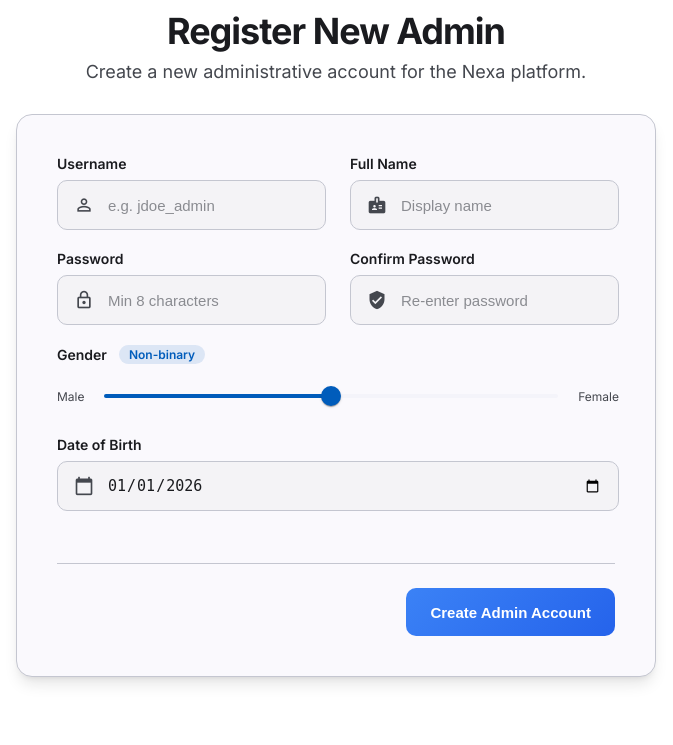
Test: Admin Registration › registering an admin with an already-taken username shows a conflict error
In the field with id "reg-username": (208, 205) [106,181,309,229], type "superadmin"
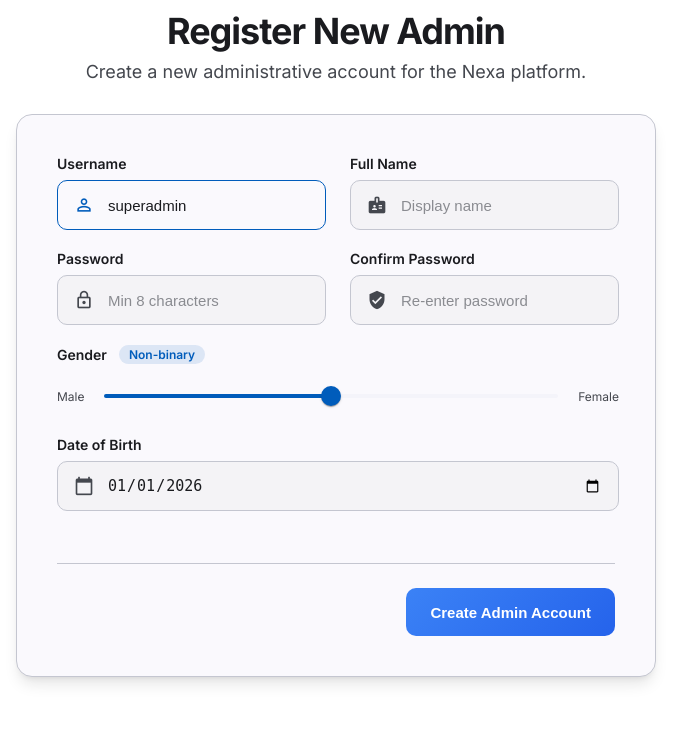
In the field with id "reg-name": (501, 205) [399,181,602,229], type "Duplicate Admin"
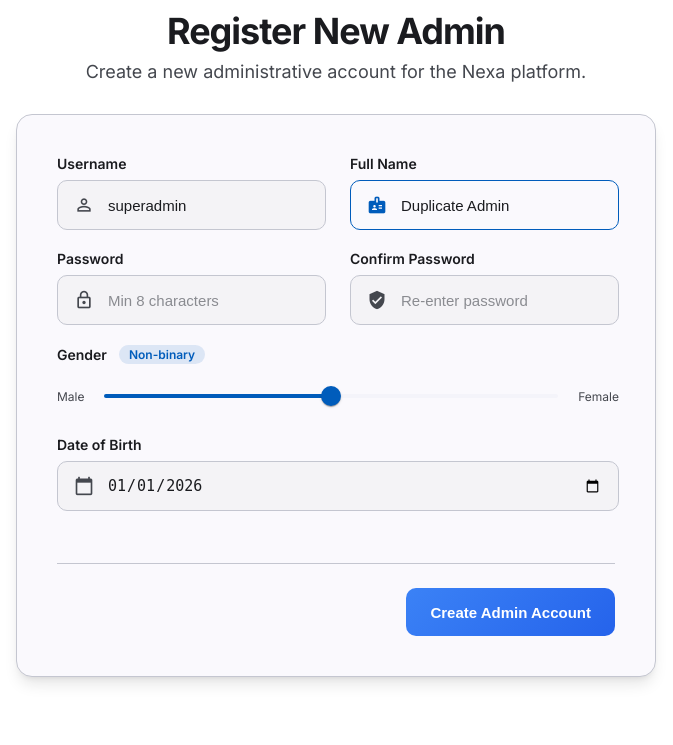
In the password field with id "reg-password": (208, 300) [106,276,309,324], type "password123"
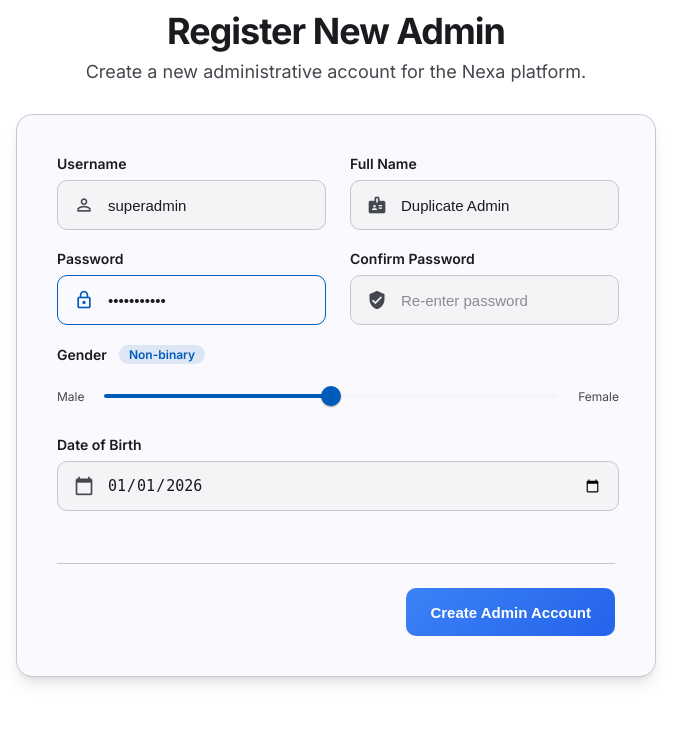
In the password field with id "reg-confirm": (501, 300) [399,276,602,324], type "password123"
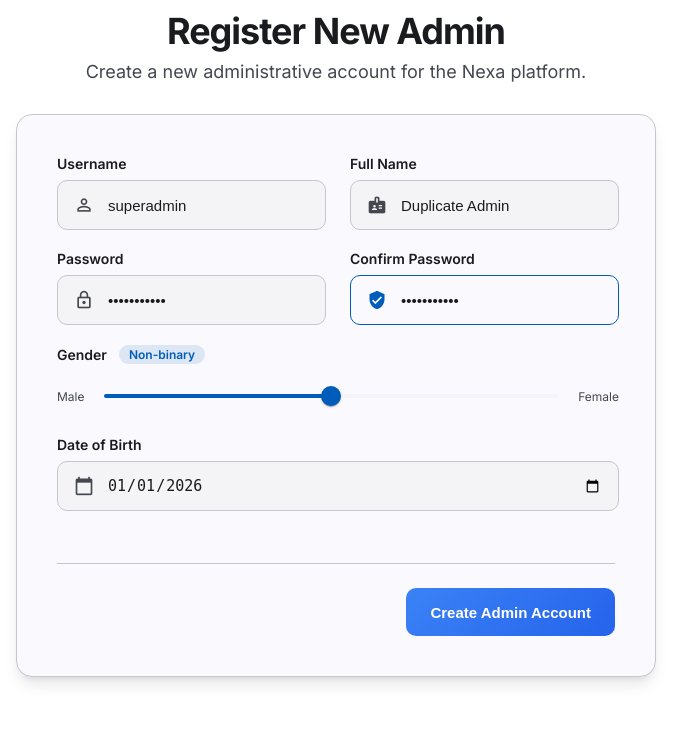
Click the button "Create Admin Account": (511, 612) [406,588,615,636]
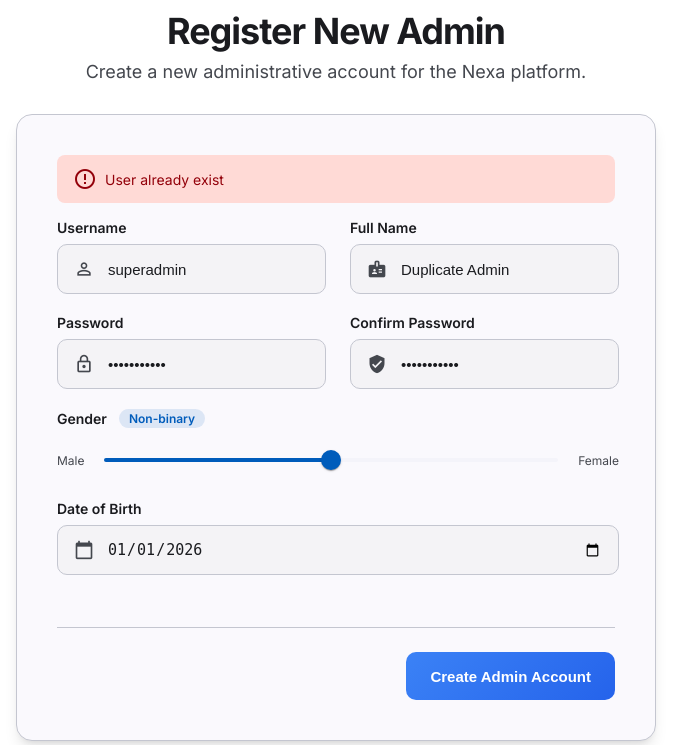
Now the text "User already exist" is shown, box [57,155,615,203]
